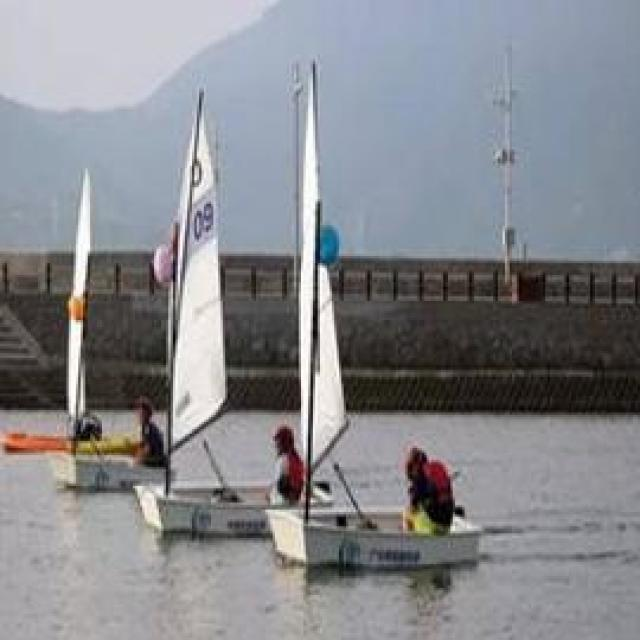sailboat: (257, 56, 494, 584), (139, 97, 321, 549), (1, 157, 153, 486)
